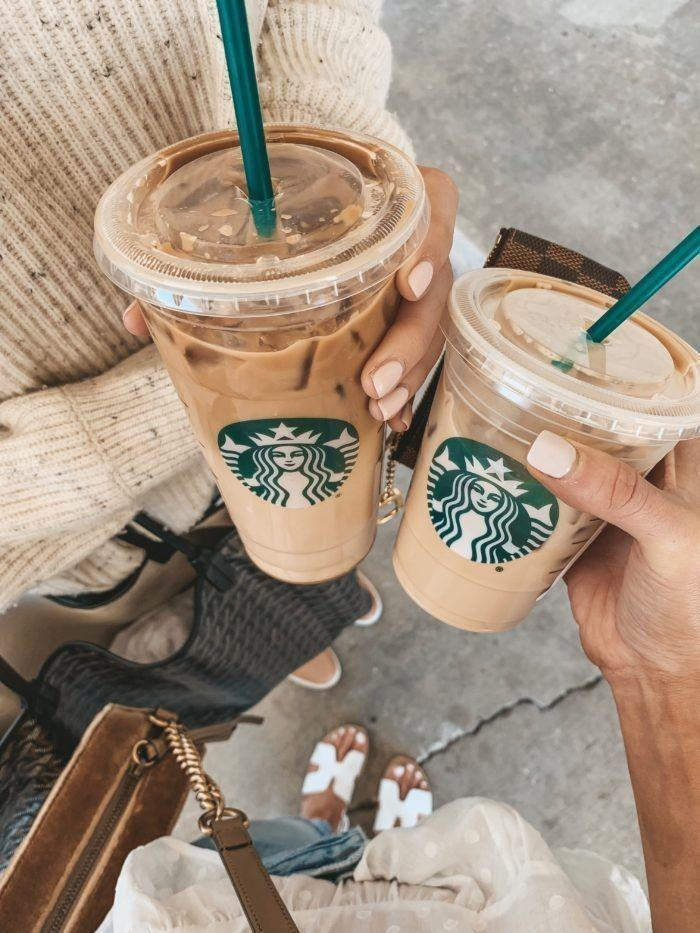cup-disposable: (91, 120, 430, 583), (392, 269, 694, 635)
